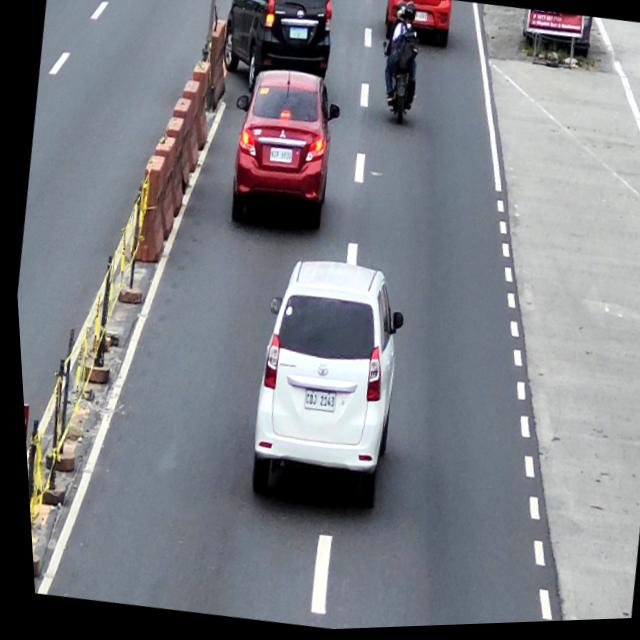Car: (233, 253, 416, 523), (214, 65, 348, 237), (212, 0, 341, 95), (380, 0, 455, 55)
License-Plate: (297, 391, 332, 416), (266, 148, 292, 167), (289, 28, 308, 44), (413, 13, 428, 26)
Motorcycle: (372, 24, 428, 132)
